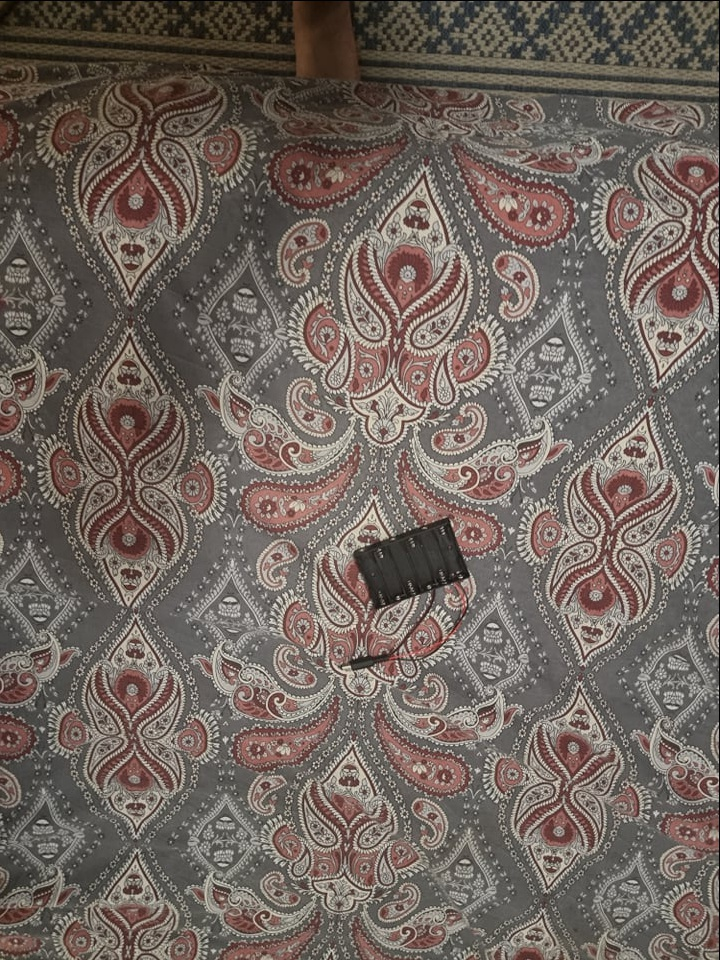BATTERY BOX: (353, 513, 471, 616)
